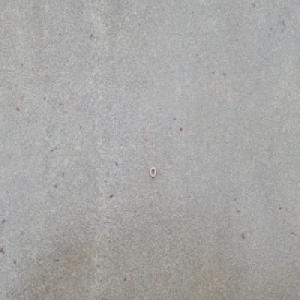Nut: (149, 166, 156, 177)
